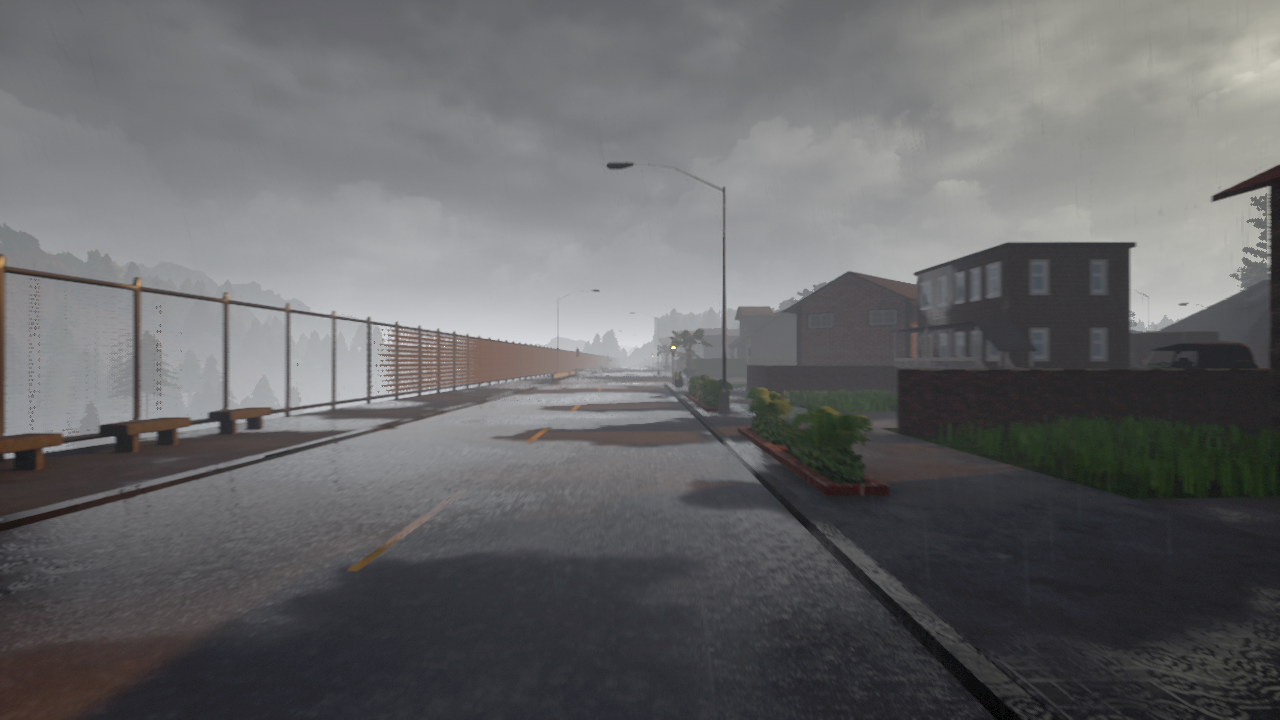yellow: (669, 340, 677, 356)
